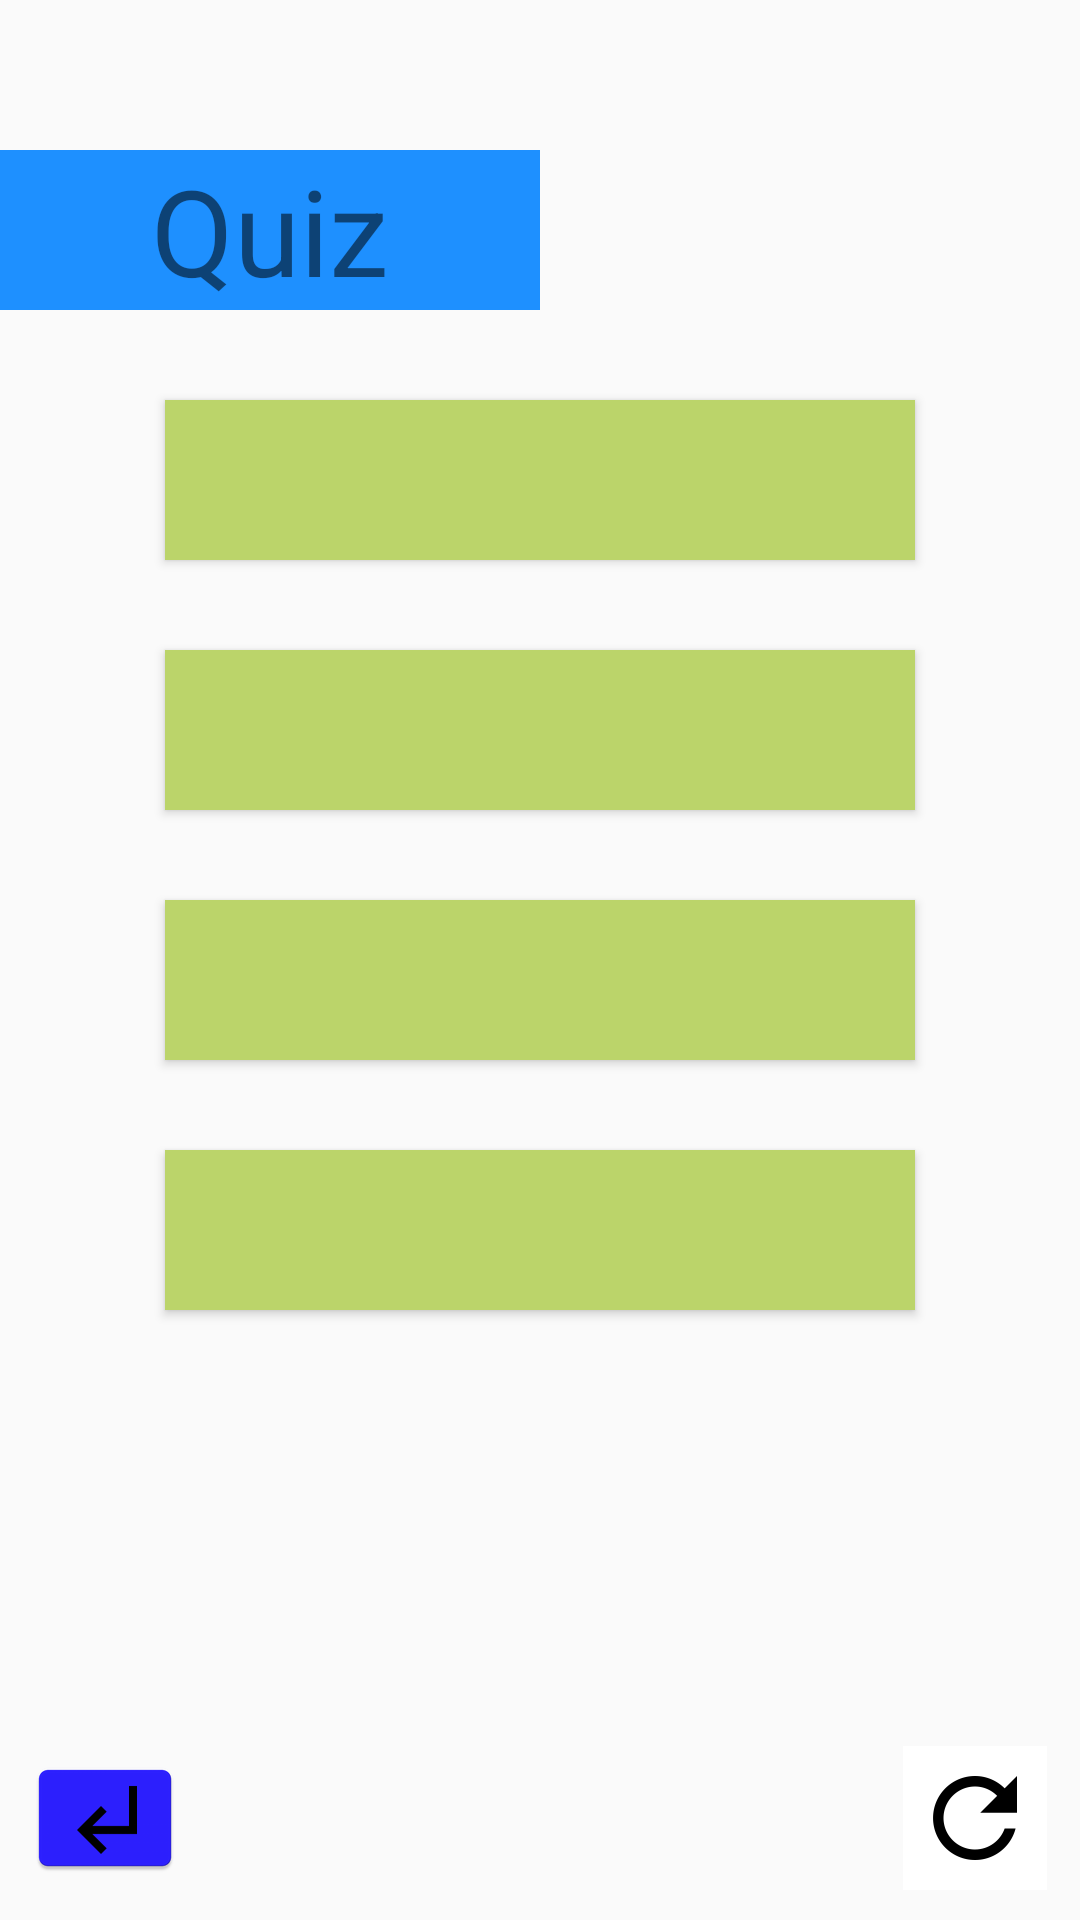

Point at icon controls on the screen. Image size 1080*1920, points as [x,y].
back: [105,1819]
